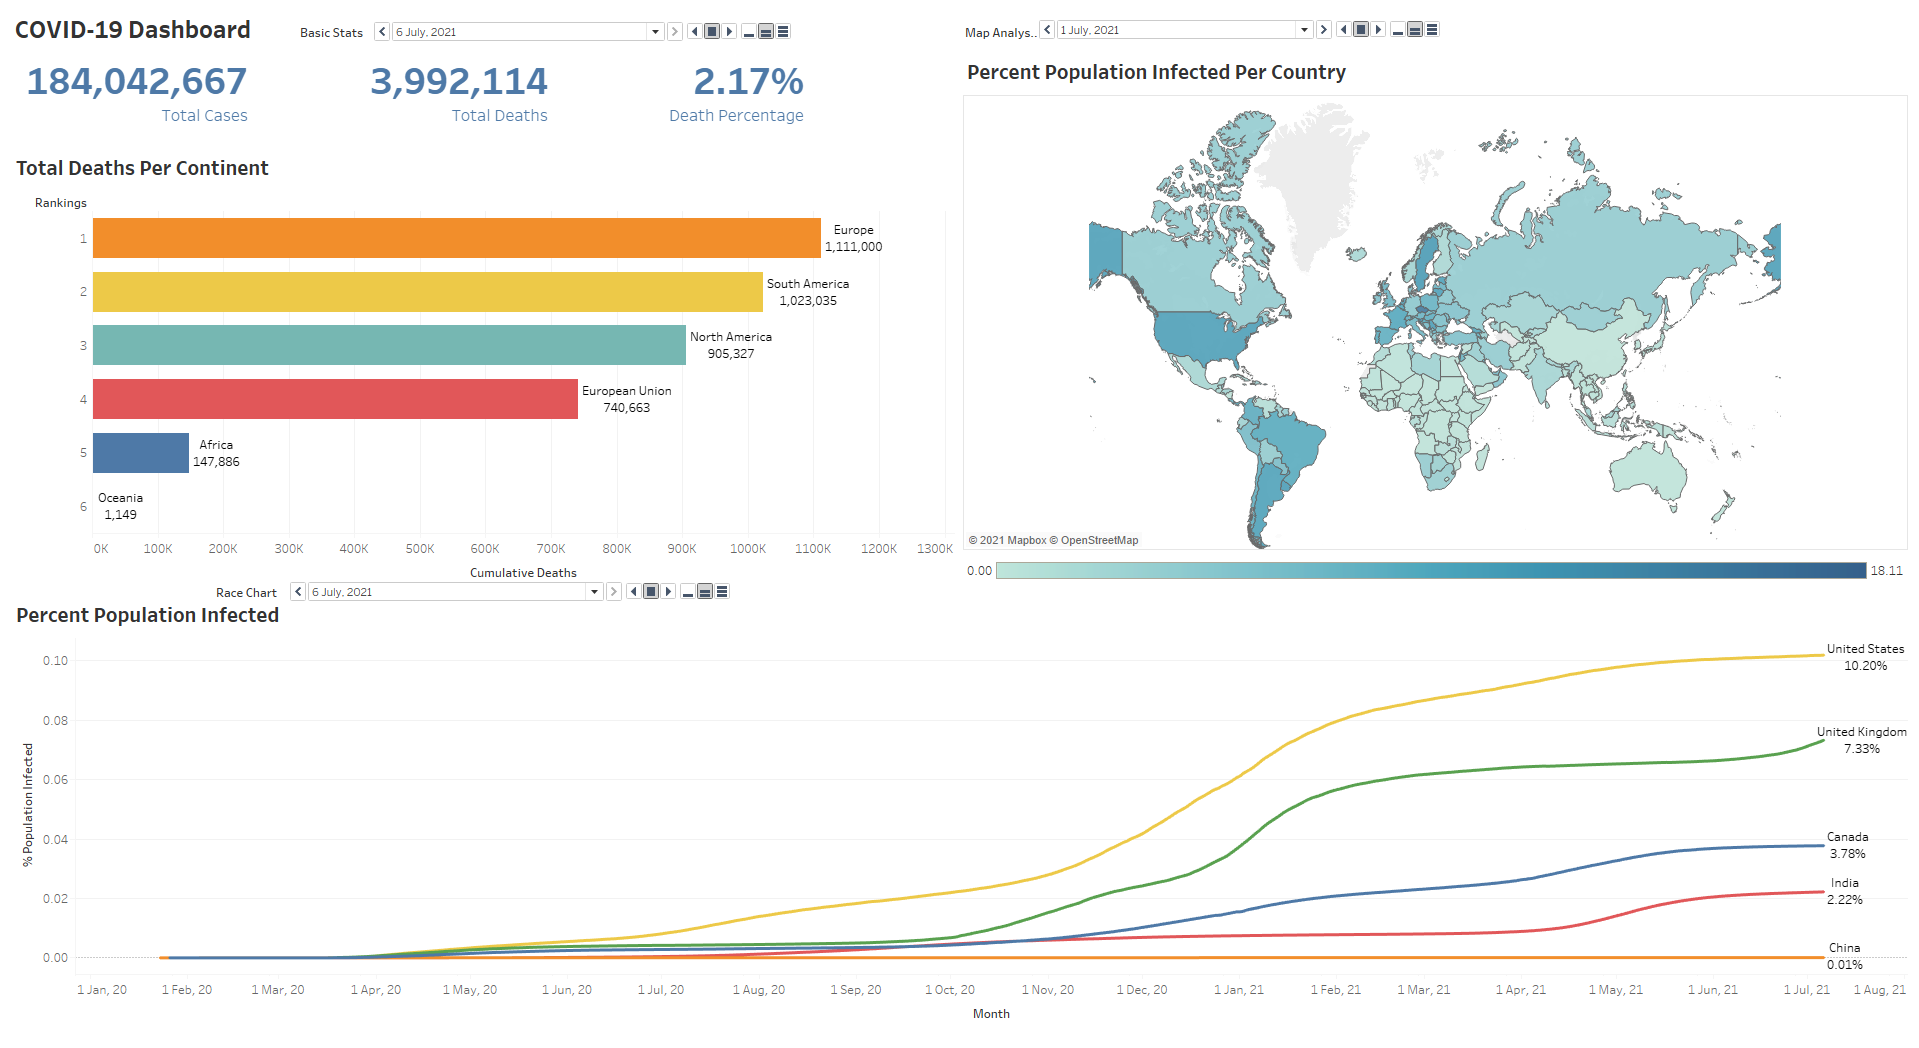

This screenshot's page, from the dashboard's own definition file:
{"tool":"tableau","page":{"name":"COVID Dashboard","canvas":[1000,1000],"units":"permille","ordinal":0},"visuals":[{"type":"title","box":[4.7,8.8,990.6,45.4]},{"type":"currpage","title":"% Population Infected Per Country","box":[502.6,18.8,248.7,23.2]},{"type":"currpage","title":"Total Cases","box":[156.2,21,256.9,33.2]},{"type":"worksheet","title":"Total Cases","mark":"Automatic","box":[4.7,54.2,176.9,90.7]},{"type":"worksheet","title":"Total Deaths","mark":"Automatic","box":[181.5,54.2,153.8,90.7]},{"type":"worksheet","title":"Death Percentage","mark":"Automatic","box":[335.3,54.2,164.4,90.7]},{"type":"worksheet","title":"% Population Infected Per Country","mark":"Automatic","box":[499.7,54.2,495.6,476.7]},{"type":"worksheet","title":"Total Deaths Per Continent","mark":"Automatic","cols":["cumulative_deaths"],"box":[4.7,144.9,495,421.4]},{"type":"legend","title":"% Population Infected Per Country","param":"[federated.1i071f71glm3iv1enxpbn1dvrxxm].[sum:pct_population_infected:qk]","box":[499.7,530.9,495.6,35.4]},{"type":"currpage","title":"Total Deaths Per Continent","box":[112.4,554.2,268.6,22.1]},{"type":"worksheet","title":"Percent Population Infected","mark":"Automatic","rows":["Calculation_1096345100954419200"],"cols":["date"],"box":[4.7,566.3,990.6,424.9]}]}

Visuals, with their boxes on the dashboard's canvas, which has no fixed pixel size, in thousandths of its width and height (x1, y1, x2, y2). These are canvas units, not pixel positions in the 1919x1048 screenshot, which may show the page scaled, cropped or inside an application window:
title: (5, 9, 995, 54)
"% Population Infected Per Country" currpage: (503, 19, 751, 42)
"Total Cases" currpage: (156, 21, 413, 54)
"Total Cases" worksheet: (5, 54, 182, 145)
"Total Deaths" worksheet: (182, 54, 335, 145)
"Death Percentage" worksheet: (335, 54, 500, 145)
"% Population Infected Per Country" worksheet: (500, 54, 995, 531)
"Total Deaths Per Continent" worksheet: (5, 145, 500, 566)
"% Population Infected Per Country" legend: (500, 531, 995, 566)
"Total Deaths Per Continent" currpage: (112, 554, 381, 576)
"Percent Population Infected" worksheet: (5, 566, 995, 991)
